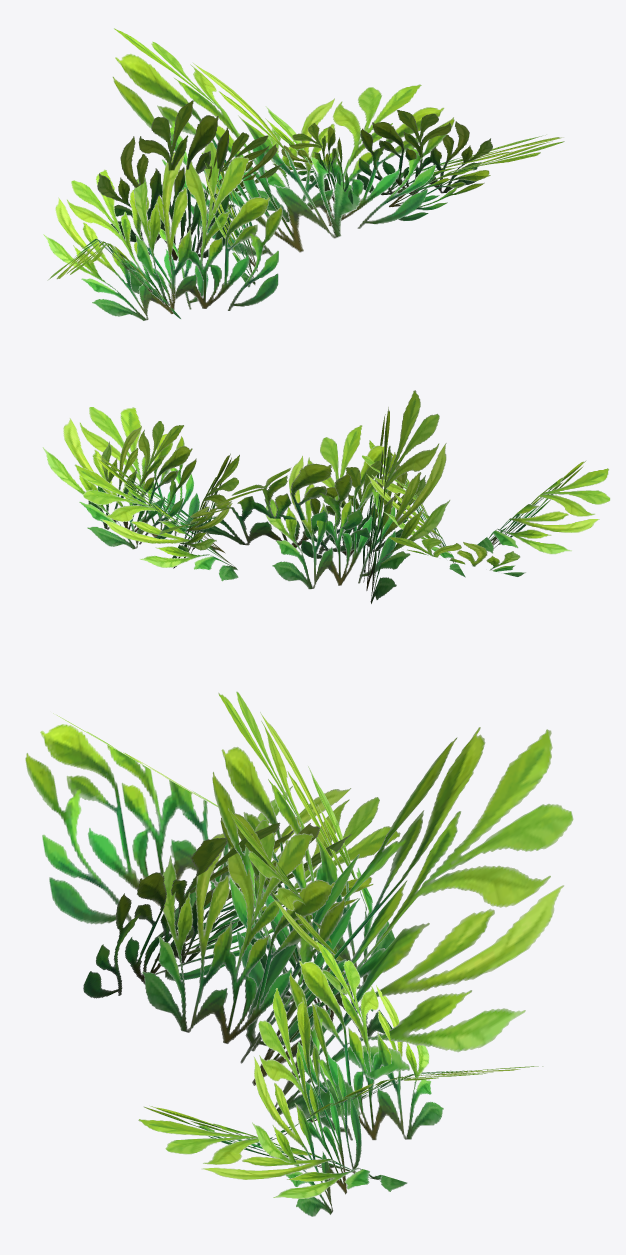
File: grass_03.FBX
3 views of the same model, one above another, from view 1: azimuth 30°, elevation 25°; view 2: azimuth 150°, elevation 25°; view 3: azimuth 270°, elevation 25° (orthographic). The views are drawn at different scales.
Visible parts, largest first — view 1: grass_03; view 2: grass_03; view 3: grass_03.
Boxes of the visible parts, x1,y1,x2,y2 form: grass_03: (43, 28, 564, 320); grass_03: (42, 390, 610, 603); grass_03: (25, 691, 573, 1216).
Size of the model in its own units: 964 by 315 by 521.
1 material, 1 textured.
